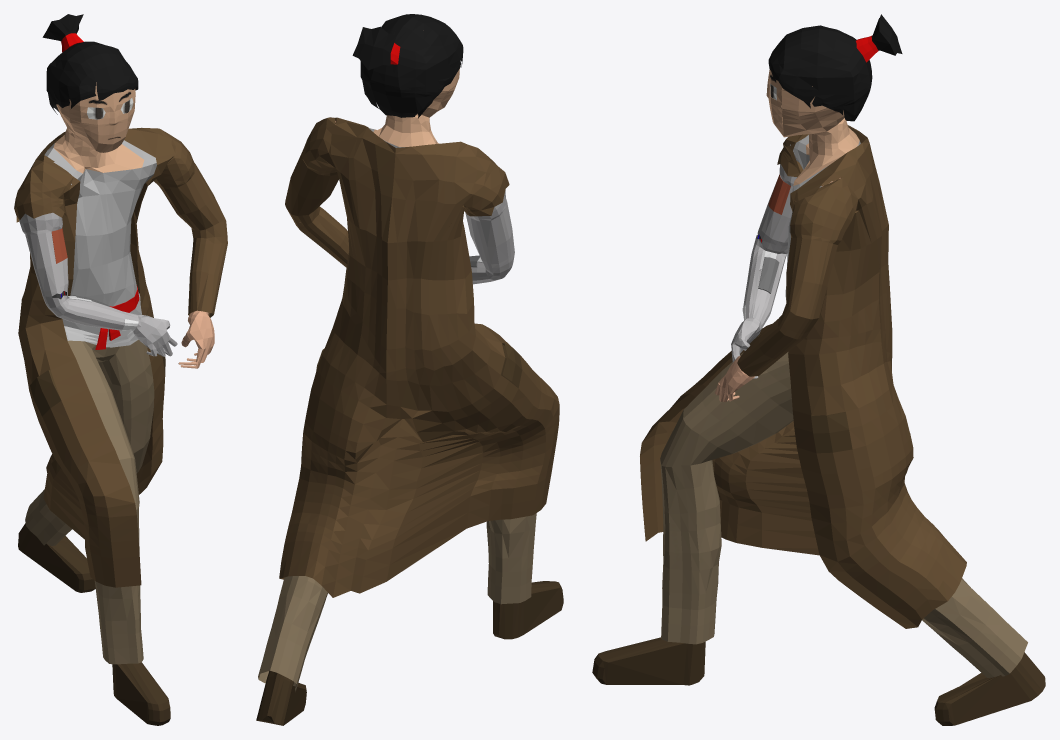
Rendered from One_Bash_000001.obj.
3 renders of one model, left to right at view 1: azimuth 30°, elevation 25°; view 2: azimuth 150°, elevation 25°; view 3: azimuth 270°, elevation 25°, orthographic. The views are drawn at different scales.
Visible parts, largest first — view 1: Hair_Cube.004; view 2: Hair_Cube.004; view 3: Hair_Cube.004.
Boxes of the visible parts, box(x1,y1,x2,y2) form: Hair_Cube.004: box(14, 14, 227, 725); Hair_Cube.004: box(256, 14, 563, 725); Hair_Cube.004: box(592, 14, 1045, 725).
Size of the model in its own units: 1.26 by 3.68 by 2.23.
